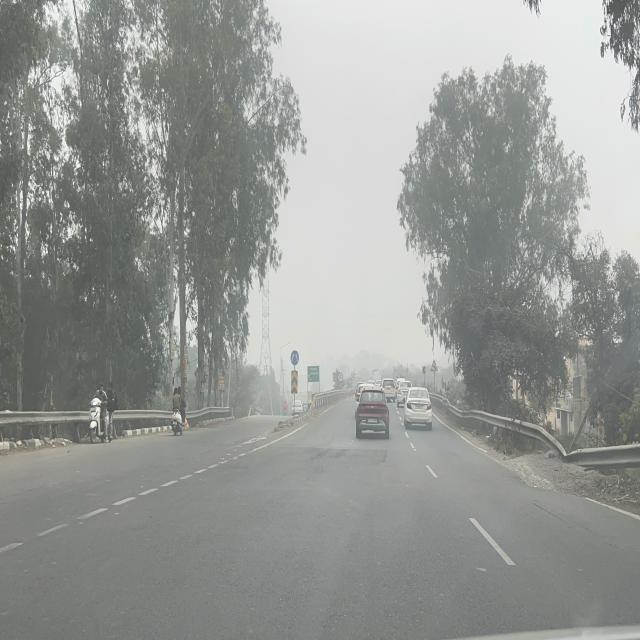GENERAL: (308, 366, 320, 382)
KEEP_EITHER_SIDE: (290, 350, 299, 366)
LEFT_TURN_AHEAD: (430, 360, 438, 371)
TURN_LEFT: (422, 366, 426, 374)
U_TURN_PROHIBITED: (338, 372, 343, 382)
